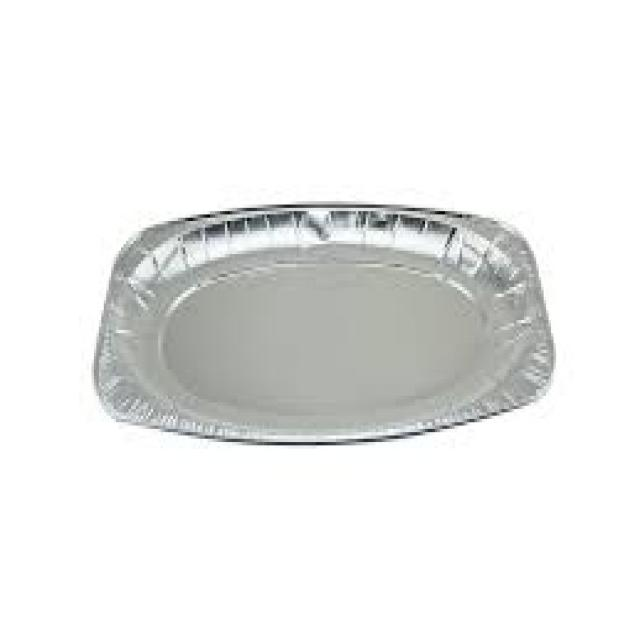metal: (94, 198, 554, 449)
